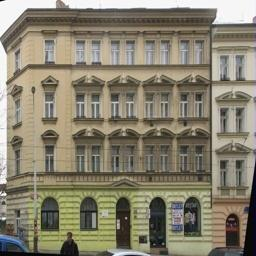building: (26, 0, 213, 256)
